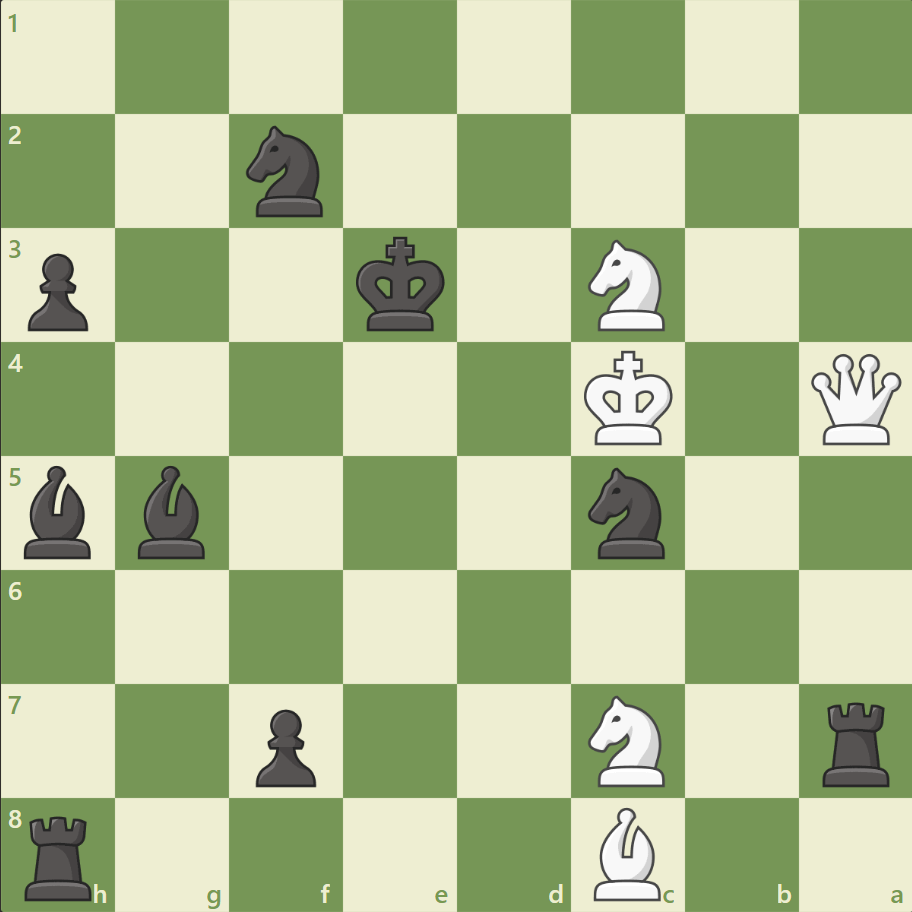B: (585, 801, 669, 904)
K: (579, 344, 679, 452)
N: (579, 688, 676, 791), (579, 234, 676, 337)
Q: (805, 349, 904, 449)
b: (131, 460, 215, 563), (17, 460, 101, 563)
k: (351, 231, 451, 339)
n: (579, 461, 676, 564), (238, 121, 335, 223)
p: (247, 700, 322, 791), (20, 246, 95, 337)
r: (19, 806, 102, 904), (814, 693, 897, 790)
